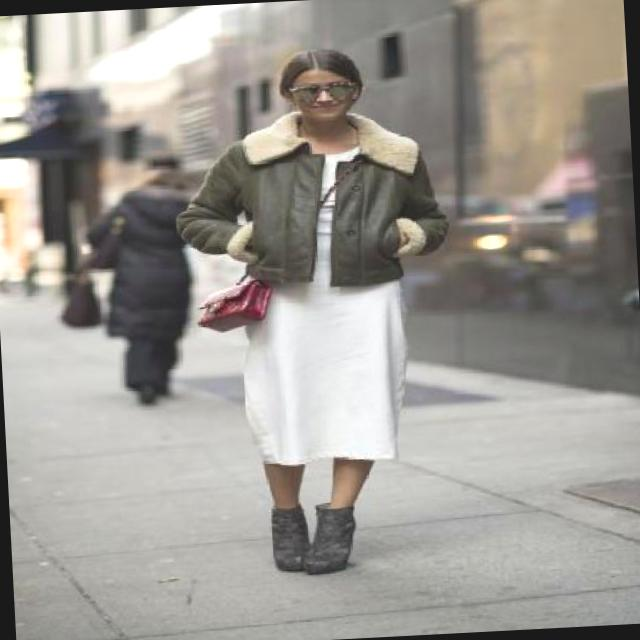Person: (144, 29, 478, 600)
